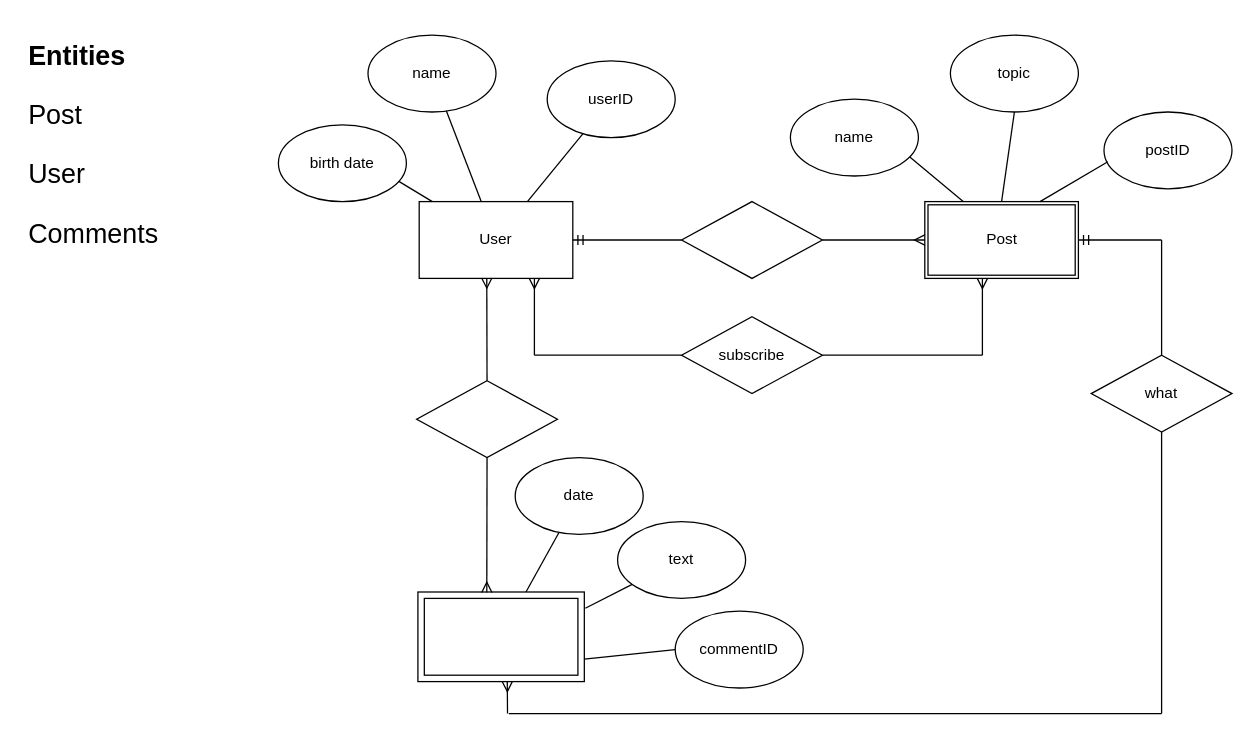
The diagram is 1254 pixels wide and 746 high, and some of its shapes have lost their labels. The shapes that lost their labels are listed below. From the top down, each one's centre as x and y in pixels, then its label:
the point at 751,239: has
the point at 486,419: who
the point at 500,636: Comments
